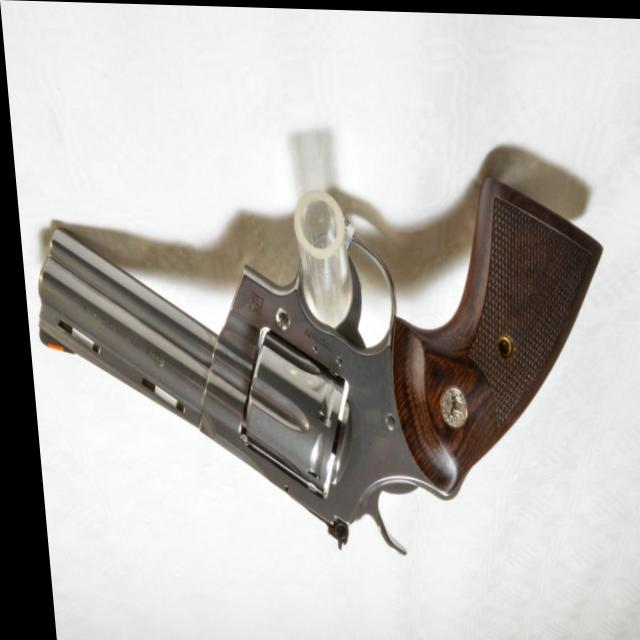handgun: (16, 136, 614, 569)
